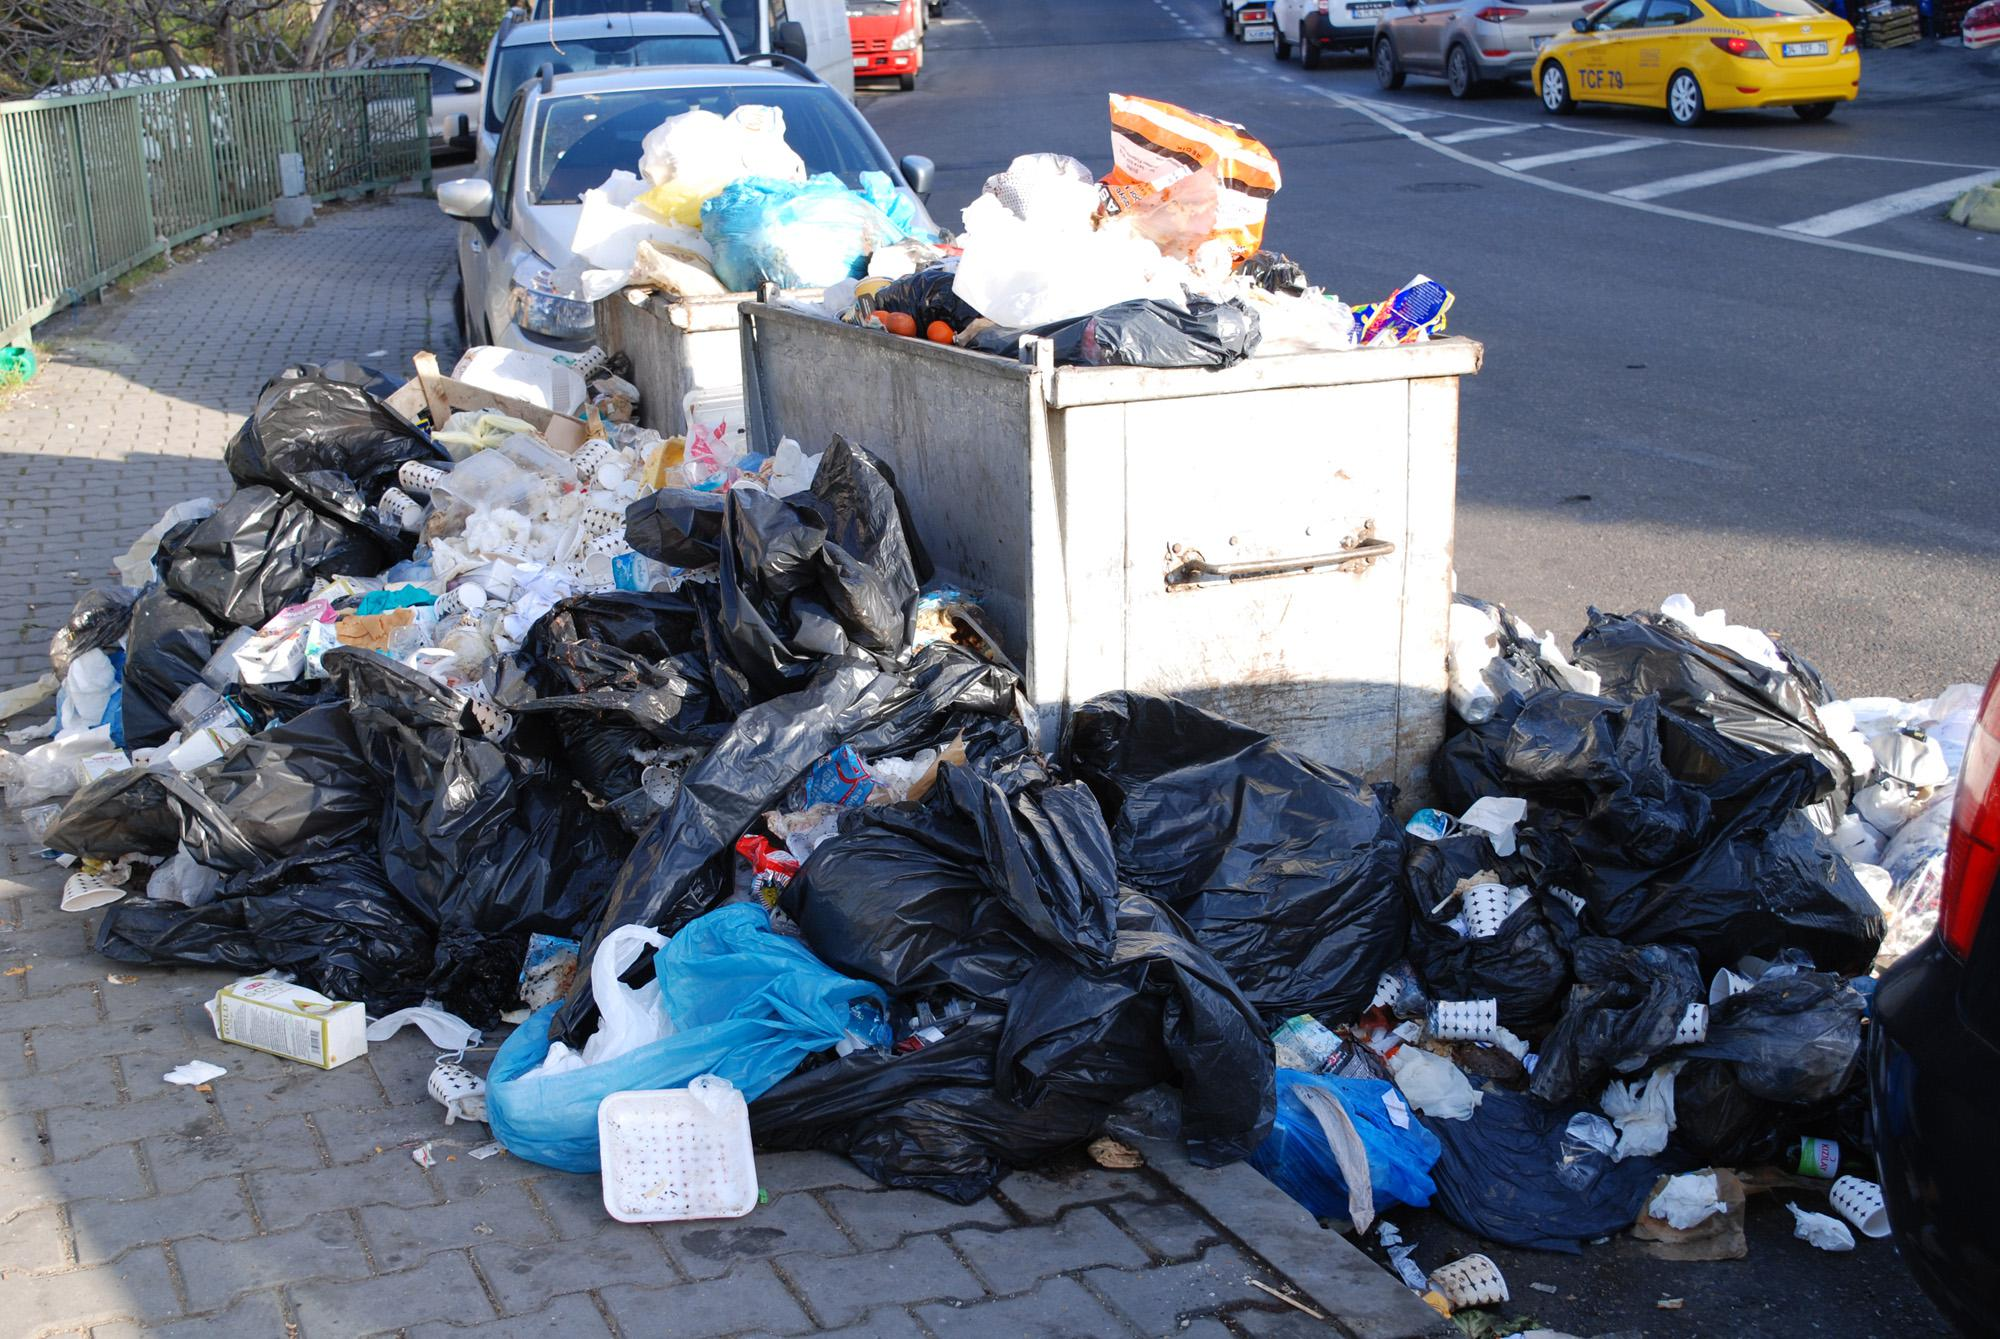Container: (727, 291, 1527, 801), (581, 281, 769, 451), (792, 306, 795, 315)
Garbage: (61, 306, 960, 1326), (158, 729, 928, 1194), (990, 828, 1606, 1302), (1636, 667, 1963, 1230), (500, 577, 830, 865), (935, 140, 1447, 326), (199, 971, 721, 1128), (351, 774, 606, 1049), (500, 124, 892, 288), (1568, 574, 1872, 750), (578, 1067, 813, 1284), (1691, 961, 1849, 1216), (235, 344, 409, 542), (131, 534, 281, 761), (1135, 918, 1282, 1145), (459, 427, 626, 619), (656, 114, 842, 270)
